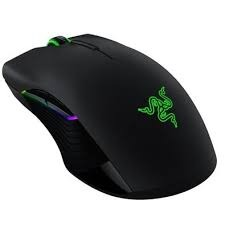mouse: (0, 26, 225, 197)
